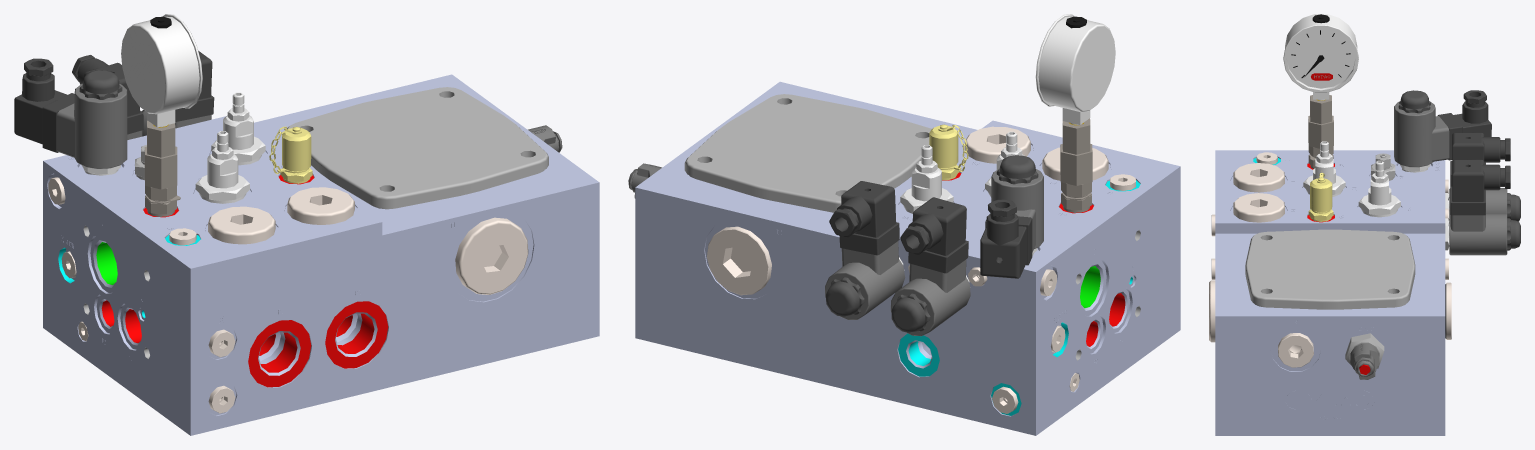
Rendered from 6HiImport_Manifold.fbx.
3 renders of one model, left to right at view 1: azimuth 30°, elevation 25°; view 2: azimuth 150°, elevation 25°; view 3: azimuth 270°, elevation 25°, orthographic. The views are drawn at different scales.
Visible parts, largest first — view 1: 2356289 Hybox Maxi Manifold E187-14, 303511 RFM 500 B F XX A 1.0 -G (Top plate only) E187-14_Stan, Copy of WSM 06020V^Module HYBOX MAXI Manifold E187-14 & 1885 (×3), Plug G1-4 E187-14_Standard, Test Point Minimess G1_4 680107 No Cap, 3126914 DB12121PF-01-C-N-230V E187-14_Standard (×2), minimess14 E187-14_Vychoz¡; view 2: 2356289 Hybox Maxi Manifold E187-14, Copy of WSM 06020V^Module HYBOX MAXI Manifold E187-14 & 1885 (×3), 303511 RFM 500 B F XX A 1.0 -G (Top plate only) E187-14_Stan, Test Point Minimess G1_4 680107 No Cap, Plug G1-4 E187-14_Standard, 3126914 DB12121PF-01-C-N-230V E187-14_Standard (×2), minimess14 E187-14_Vychoz¡; view 3: 2356289 Hybox Maxi Manifold E187-14, Copy of WSM 06020V^Module HYBOX MAXI Manifold E187-14 & 1885 (×3), 303511 RFM 500 B F XX A 1.0 -G (Top plate only) E187-14_Stan, Test Point Minimess G1_4 680107 No Cap, Plug G1-4 E187-14_Standard, 3126914 DB12121PF-01-C-N-230V E187-14_Standard (×2), DUMMY_VR_B E187-14_Standard, minimess14 E187-14_Vychoz¡, 716146 DB3E02X250V E187-14_Standard.
Boxes of the visible parts, x1=… form: 2356289 Hybox Maxi Manifold E187-14: x1=43, y1=74, x2=599, y2=435; 303511 RFM 500 B F XX A 1.0 -G (Top plate only) E187-14_Stan: x1=287, y1=87, x2=548, y2=209; Copy of WSM 06020V^Module HYBOX MAXI Manifold E187-14 & 1885 (×3): x1=14, y1=51, x2=214, y2=175; Plug G1-4 E187-14_Standard: x1=48, y1=177, x2=528, y2=413; Test Point Minimess G1_4 680107 No Cap: x1=121, y1=14, x2=202, y2=216; 3126914 DB12121PF-01-C-N-230V E187-14_Standard (×2): x1=195, y1=92, x2=265, y2=203; minimess14 E187-14_Vychoz¡: x1=269, y1=126, x2=312, y2=183; 2356289 Hybox Maxi Manifold E187-14: x1=635, y1=81, x2=1180, y2=435; Copy of WSM 06020V^Module HYBOX MAXI Manifold E187-14 & 1885 (×3): x1=825, y1=155, x2=1043, y2=336; 303511 RFM 500 B F XX A 1.0 -G (Top plate only) E187-14_Stan: x1=684, y1=94, x2=931, y2=212; Test Point Minimess G1_4 680107 No Cap: x1=1035, y1=14, x2=1115, y2=212; Plug G1-4 E187-14_Standard: x1=707, y1=126, x2=1135, y2=413; 3126914 DB12121PF-01-C-N-230V E187-14_Standard (×2): x1=900, y1=131, x2=1024, y2=213; minimess14 E187-14_Vychoz¡: x1=929, y1=124, x2=968, y2=180; 2356289 Hybox Maxi Manifold E187-14: x1=1215, y1=150, x2=1445, y2=435; Copy of WSM 06020V^Module HYBOX MAXI Manifold E187-14 & 1885 (×3): x1=1394, y1=90, x2=1520, y2=255; 303511 RFM 500 B F XX A 1.0 -G (Top plate only) E187-14_Stan: x1=1245, y1=229, x2=1415, y2=309; Test Point Minimess G1_4 680107 No Cap: x1=1283, y1=14, x2=1358, y2=168; Plug G1-4 E187-14_Standard: x1=1209, y1=152, x2=1451, y2=367; 3126914 DB12121PF-01-C-N-230V E187-14_Standard (×2): x1=1303, y1=141, x2=1400, y2=217; DUMMY_VR_B E187-14_Standard: x1=1345, y1=333, x2=1384, y2=379; minimess14 E187-14_Vychoz¡: x1=1308, y1=171, x2=1333, y2=221; 716146 DB3E02X250V E187-14_Standard: x1=1371, y1=153, x2=1395, y2=180.
Bounding box in the file's own units: 367 × 274 × 271.
